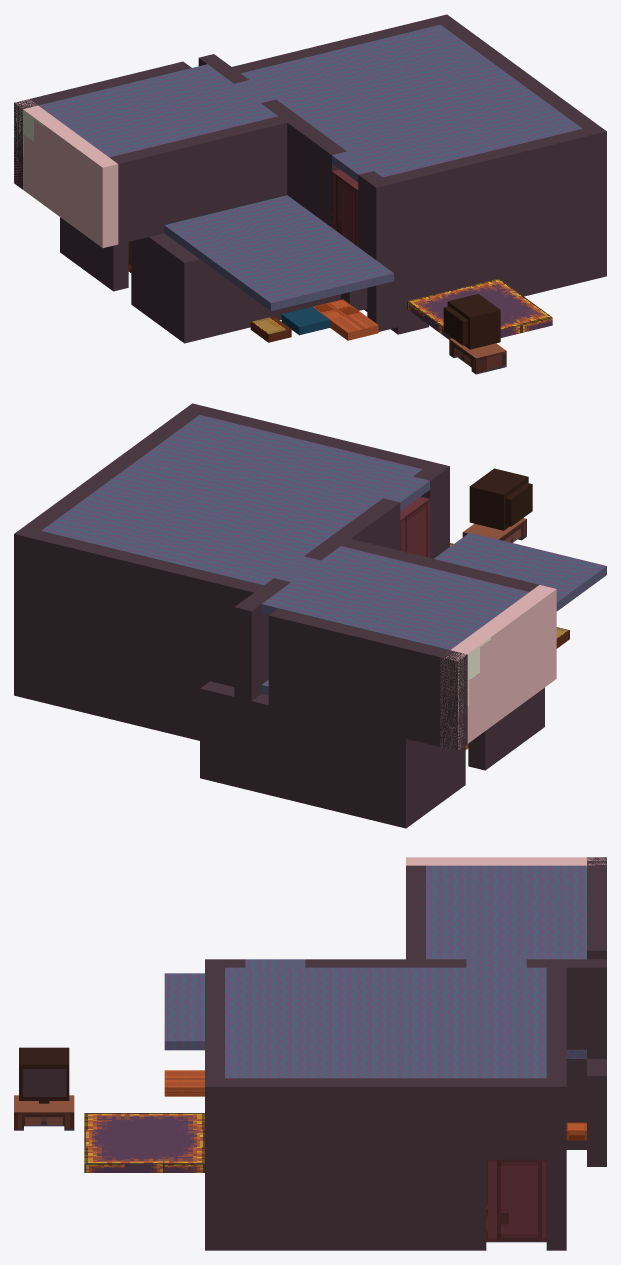
The picture shows the model from 3 angles, top to bottom: view 1: azimuth 30°, elevation 25°; view 2: azimuth 150°, elevation 25°; view 3: azimuth 270°, elevation 25°; orthographic projection. The views are drawn at different scales.
Visible parts, largest first — view 1: cube_266, cube_140, cube_143, cube_74, cube_139, cube_72, cube_75, cube_141, cube_4, Tv_320, cube_263, Kitchen ground_330 (+104 smaller); view 2: cube_4, cube_141, cube_73, cube_143, cube_75, cube_142, cube_266, cube_74, cube_139, Tv_320, cube_263, cube_140 (+79 smaller); view 3: cube_263, cube_4, cube_266, Kitchen ground_293, cube_5, cube_142, cube_73, cube_141, cube_140, cube_143, Tv_320, cube_91 (+85 smaller).
Part boxes in pixels (x1,y1,x2,y2): cube_266: (367, 125, 606, 331); cube_140: (109, 116, 287, 244); cube_143: (14, 99, 118, 247); cube_74: (131, 233, 199, 343); cube_139: (261, 99, 346, 227); cube_72: (200, 259, 340, 339); cube_75: (60, 217, 128, 291); cube_141: (14, 61, 191, 189); cube_4: (217, 14, 455, 76); Tv_320: (447, 294, 500, 349); cube_263: (467, 40, 597, 128); Kitchen ground_330: (332, 169, 358, 246); cube_4: (14, 527, 280, 740); cube_141: (268, 608, 467, 751); cube_73: (200, 681, 388, 824); cube_143: (440, 585, 556, 750); cube_75: (389, 734, 465, 828); cube_142: (234, 578, 290, 700); cube_266: (183, 403, 449, 553); cube_74: (468, 687, 544, 770); cube_139: (304, 498, 400, 560); Tv_320: (469, 468, 528, 530); cube_263: (54, 410, 199, 508); cube_140: (341, 539, 539, 591); cube_263: (225, 1078, 486, 1250); cube_4: (546, 959, 566, 1250); cube_266: (205, 959, 224, 1250); Kitchen ground_293: (486, 1159, 546, 1241); cube_5: (486, 1078, 546, 1159); cube_142: (526, 959, 606, 1058); cube_73: (587, 1059, 606, 1166); cube_141: (587, 857, 606, 959); cube_140: (406, 865, 425, 959); cube_143: (406, 857, 606, 865); Tv_320: (19, 1047, 69, 1100); cube_91: (566, 1059, 586, 1149).
Bounding box in the file's own units: 13.97 × 5.17 × 15.26.
8 materials, 8 textured.
